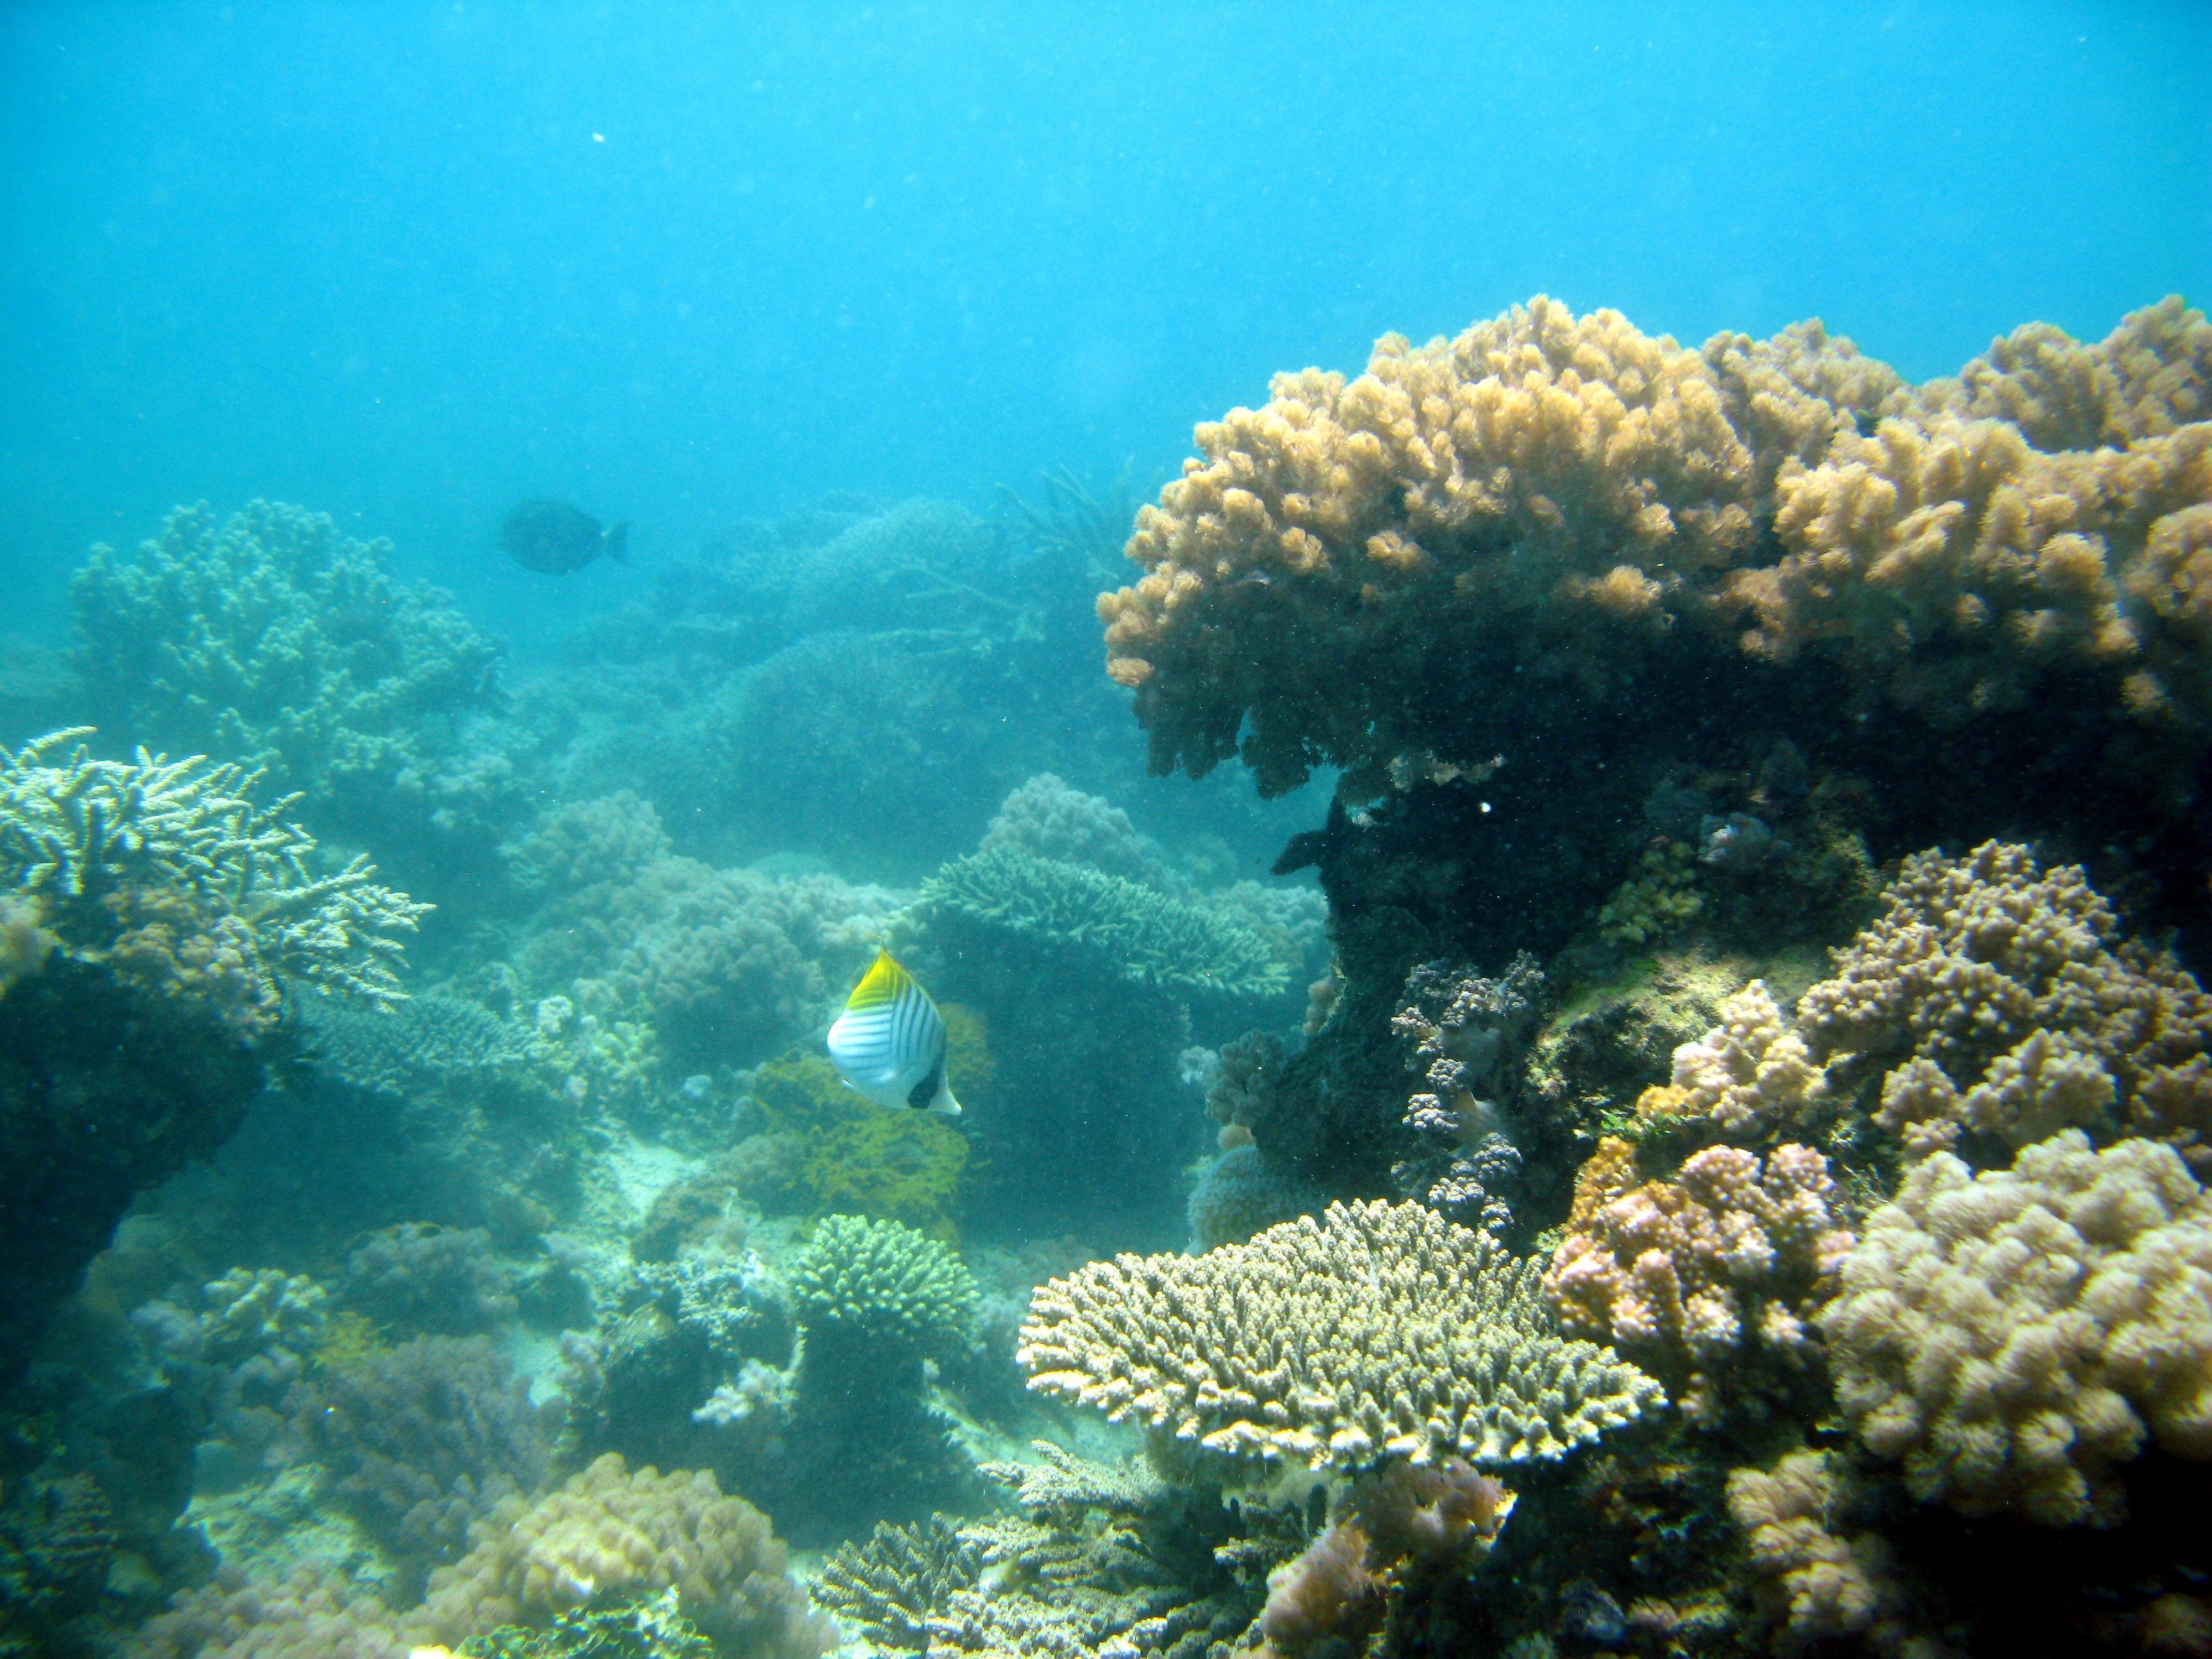Fish: (775, 880, 1019, 1197)
